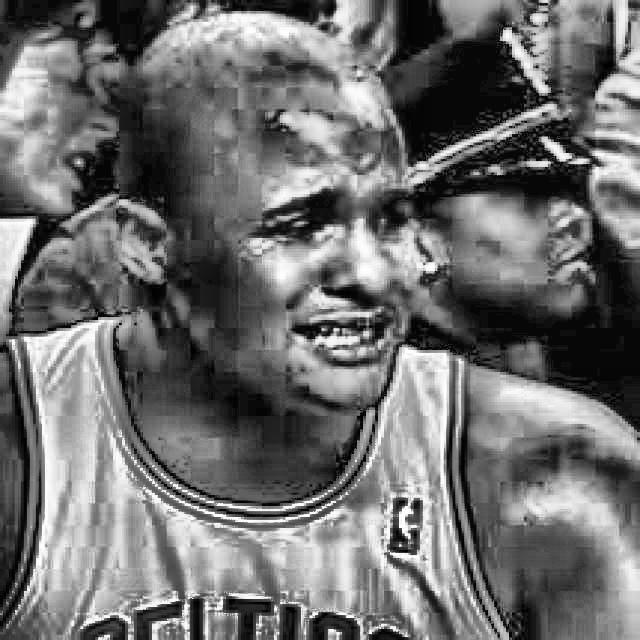sad: (182, 93, 414, 407)
